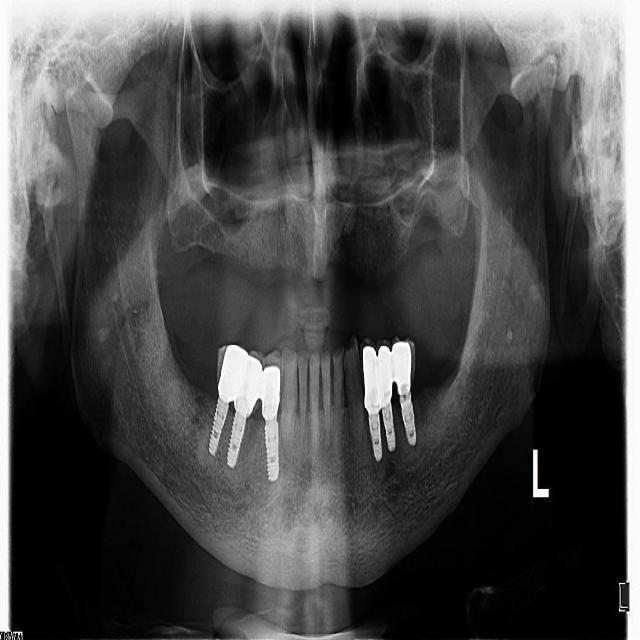Crown: (234, 351, 264, 417), (217, 342, 245, 403), (261, 351, 283, 418), (358, 342, 378, 413), (391, 337, 416, 392), (375, 341, 392, 406)
Implant: (228, 409, 247, 469), (209, 398, 228, 455), (399, 389, 417, 444), (265, 421, 279, 480), (368, 412, 383, 460), (382, 401, 395, 449)
Missing teeth: (163, 219, 460, 306), (412, 333, 462, 398), (173, 327, 218, 399), (342, 348, 365, 406)
